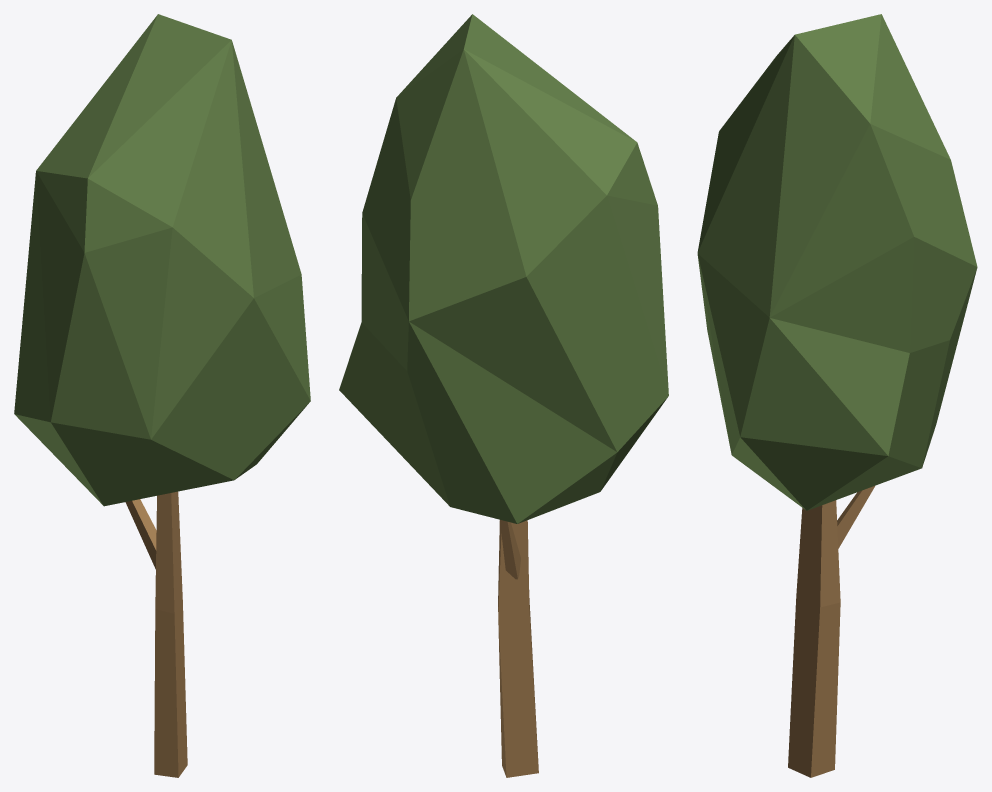
File: tree_01.fbx
3 views of the same model, side by side, from view 1: azimuth 30°, elevation 25°; view 2: azimuth 150°, elevation 25°; view 3: azimuth 270°, elevation 25° (orthographic). The views are drawn at different scales.
Visible parts, largest first — view 1: tree_01; view 2: tree_01; view 3: tree_01.
Boxes of the visible parts, bbox=[...] form: tree_01: bbox=[14, 14, 310, 777]; tree_01: bbox=[339, 14, 668, 777]; tree_01: bbox=[697, 14, 977, 777].
Bounding box in the file's own units: 198 × 502 × 166.
